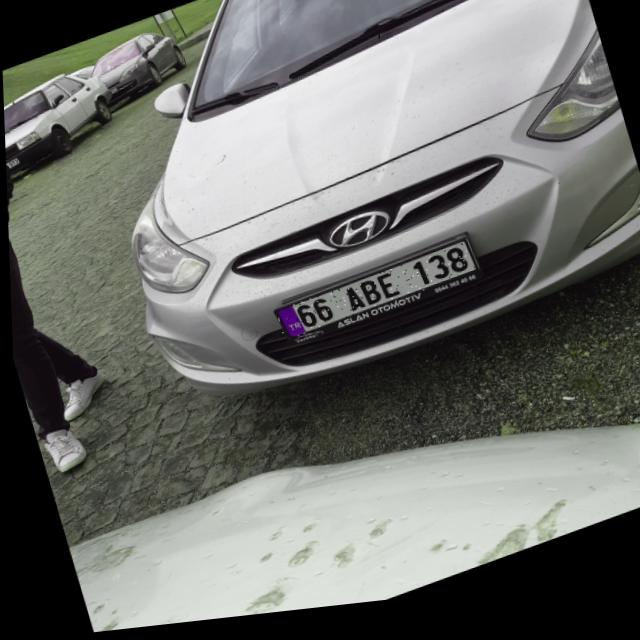license_plate: (269, 250, 476, 349)
